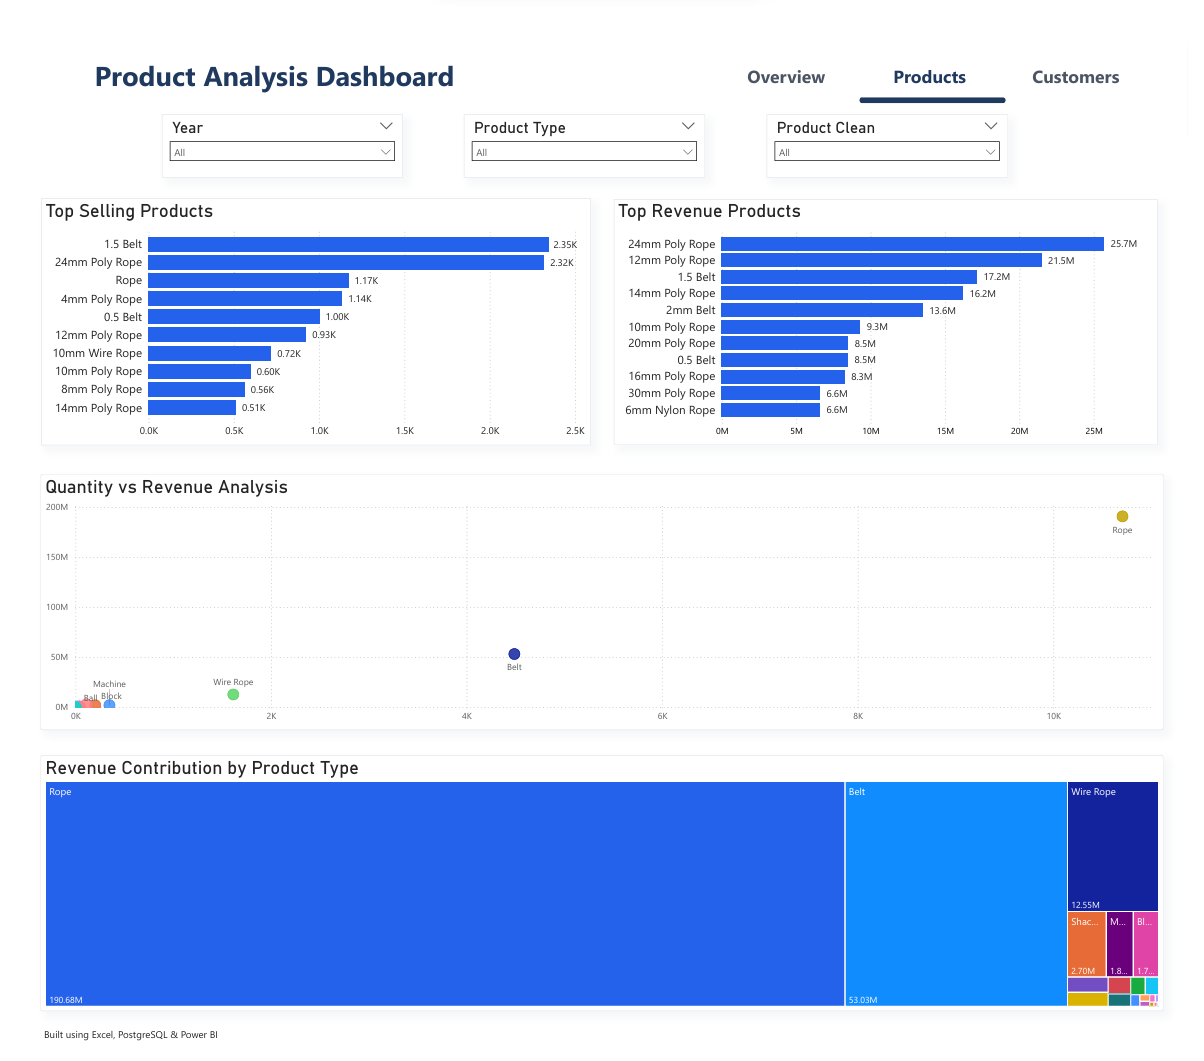

This screenshot's page, from the dashboard's own definition file:
{"tool":"powerbi","page":{"name":"Product Analysis","canvas":[1600,1410],"ordinal":1},"visuals":[{"type":"shape","box":[0,0,1600,112],"z":0},{"type":"slicer","fields":{"Values":["public rope_sales_clean.sales_date.Variation.Date Hierarchy.Year"]},"box":[197.7,131.7,330,87],"z":1000},{"type":"textbox","box":[64,48,576,64],"z":2000},{"type":"slicer","fields":{"Values":["public vw_product_type_revenue.product_type"]},"box":[611.4,132,330,87],"z":3000},{"type":"actionButton","box":[948,48,208,64],"z":4000},{"type":"slicer","fields":{"Values":["public rope_sales_clean.product_clean"]},"box":[1025.2,131.7,330,87.5],"z":5000},{"type":"actionButton","box":[1348,48,200,64],"z":6000},{"type":"clusteredBarChart","title":"Top Selling Products","fields":{"Category":["public vw_product_quantity.product_clean"],"Y":["Sum(public vw_product_quantity.total_quantity)"]},"box":[32.5,247.1,752.5,337.5],"z":7000},{"type":"clusteredBarChart","title":"Top Revenue Products","fields":{"Category":["public vw_product_revenue.product_clean"],"Y":["Sum(public vw_product_revenue.total_revenue)"]},"box":[816,247.9,744,336],"z":8000},{"type":"scatterChart","title":"Quantity vs Revenue Analysis","fields":{"X":["Sum(public vw_product_performance.total_quantity)"],"Y":["Sum(public vw_product_performance.total_revenue)"],"Series":["public vw_product_performance.product_type"]},"box":[32,624,1536,350],"z":9000},{"type":"treemap","title":"Revenue Contribution by Product Type","fields":{"Group":["public vw_product_type_revenue.product_type"],"Values":["Sum(public vw_product_type_revenue.total_revenue)"]},"box":[32,1008,1536,350],"z":10000},{"type":"actionButton","box":[1148,48,200,64],"z":11000},{"type":"shape","box":[1152,109,200,8],"z":12000},{"type":"textbox","title":"Built using Excel, PostgreSQL & Power BI","box":[32,1376,256,32],"z":13000}]}

Visuals, with their boxes in screenshot pixels (x1, y1, x2, y2), scaled from the page's 1600x1410 canvas onto the 1204x1061 screenshot:
shape: rect(0, 0, 1203, 84)
slicer - public rope_sales_clean.sales_date.Variation.Date Hierarchy.Year: rect(149, 99, 397, 165)
textbox: rect(48, 36, 482, 84)
slicer - public vw_product_type_revenue.product_type: rect(460, 99, 708, 165)
actionButton: rect(713, 36, 870, 84)
slicer - public rope_sales_clean.product_clean: rect(771, 99, 1020, 165)
actionButton: rect(1014, 36, 1165, 84)
"Top Selling Products" clusteredBarChart: rect(24, 186, 591, 440)
"Top Revenue Products" clusteredBarChart: rect(614, 187, 1174, 439)
"Quantity vs Revenue Analysis" scatterChart: rect(24, 470, 1180, 733)
"Revenue Contribution by Product Type" treemap: rect(24, 759, 1180, 1022)
actionButton: rect(864, 36, 1014, 84)
shape: rect(867, 82, 1017, 88)
"Built using Excel, PostgreSQL & Power BI" textbox: rect(24, 1035, 217, 1059)
